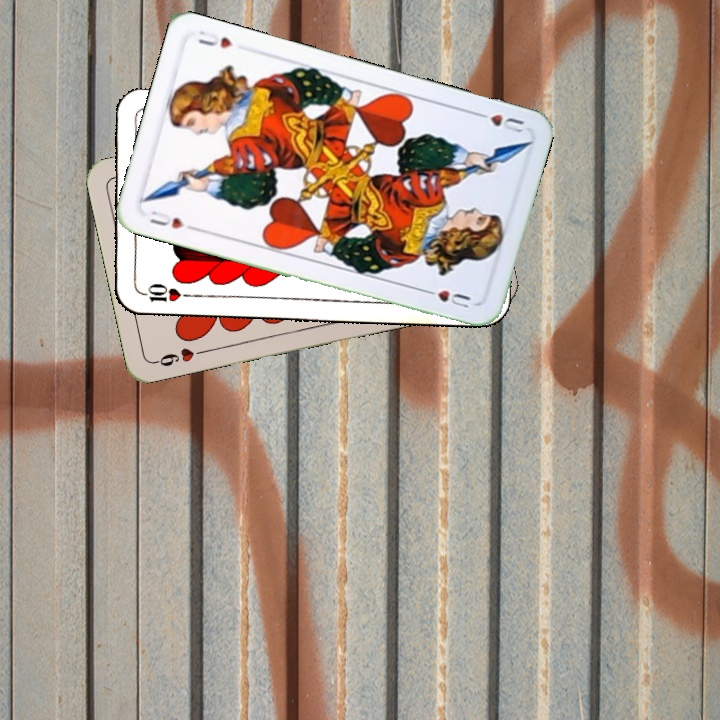H10: (135, 280, 194, 305)
H9: (150, 343, 209, 369)
HU: (470, 107, 528, 136), (145, 206, 198, 233)
